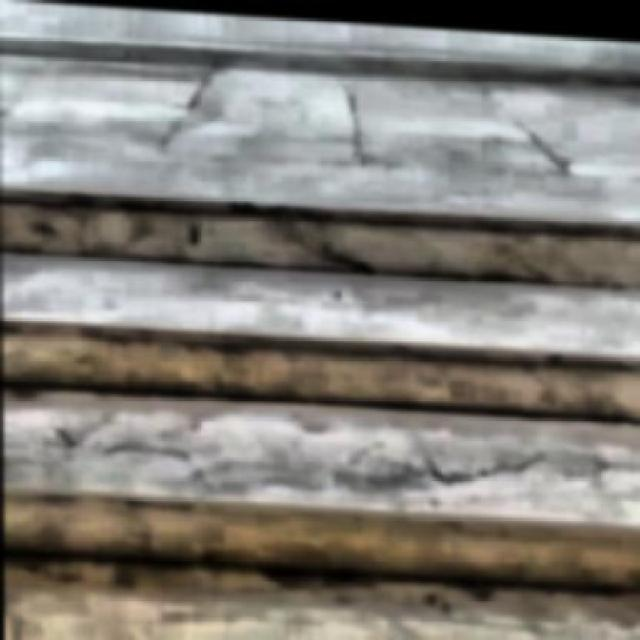stair: (0, 166, 638, 638)
